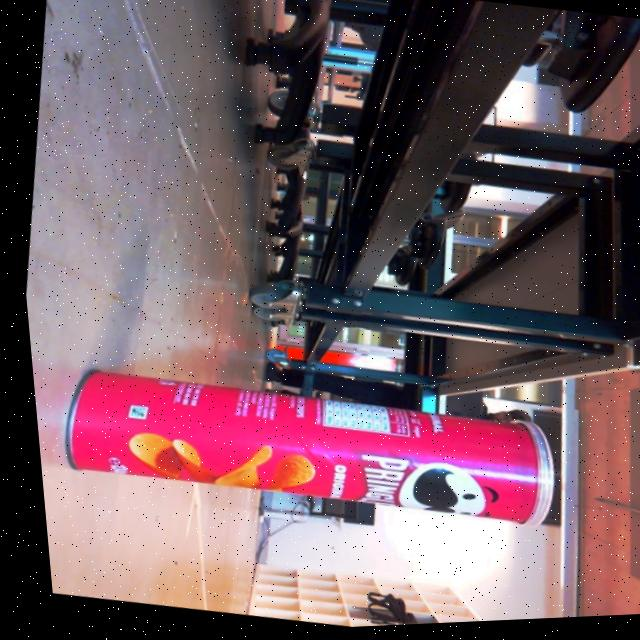redpringles: (24, 318, 588, 586)
